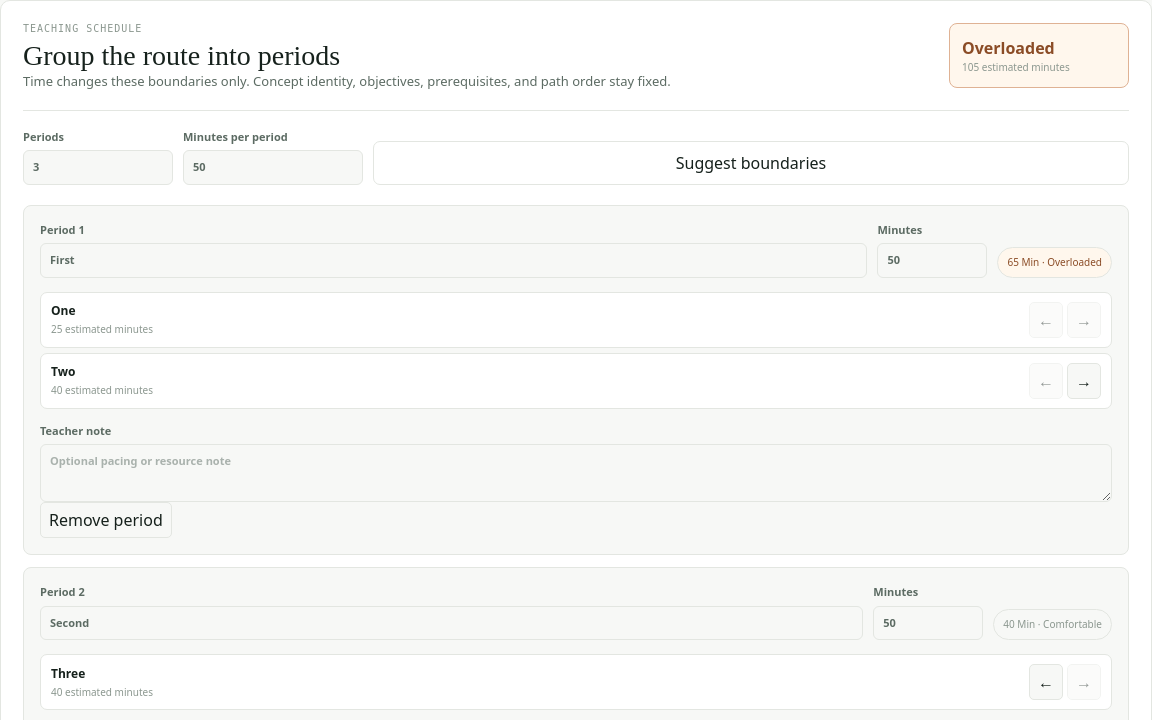
Test: TeachingSchedulePanel › updates feasibility immediately when planned time changes
This screenshot has width=1152, height=720.
Step 1. Replace the text in the number field named "Period 1 minutes" with "80" → (932, 260), box [877,243,987,278]
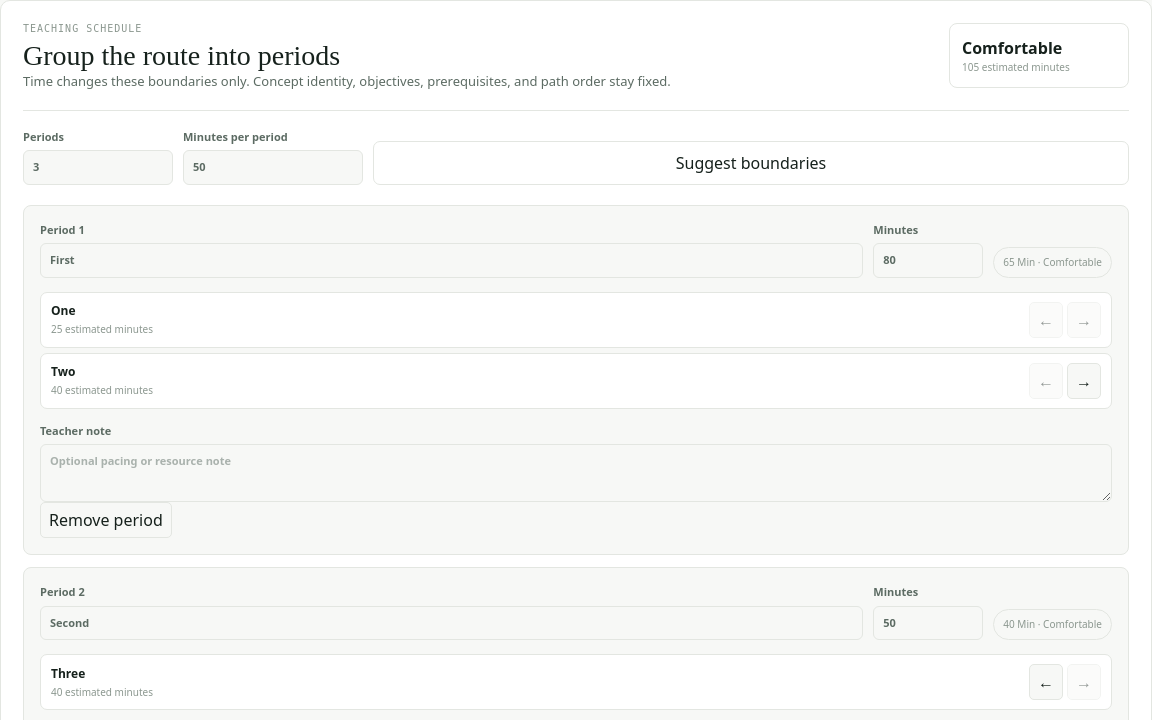
Now the text "65 min · comfortable" is shown, box [993,246,1112,278]
Now the text "comfortable" is shown, box [962,37,1062,59]
